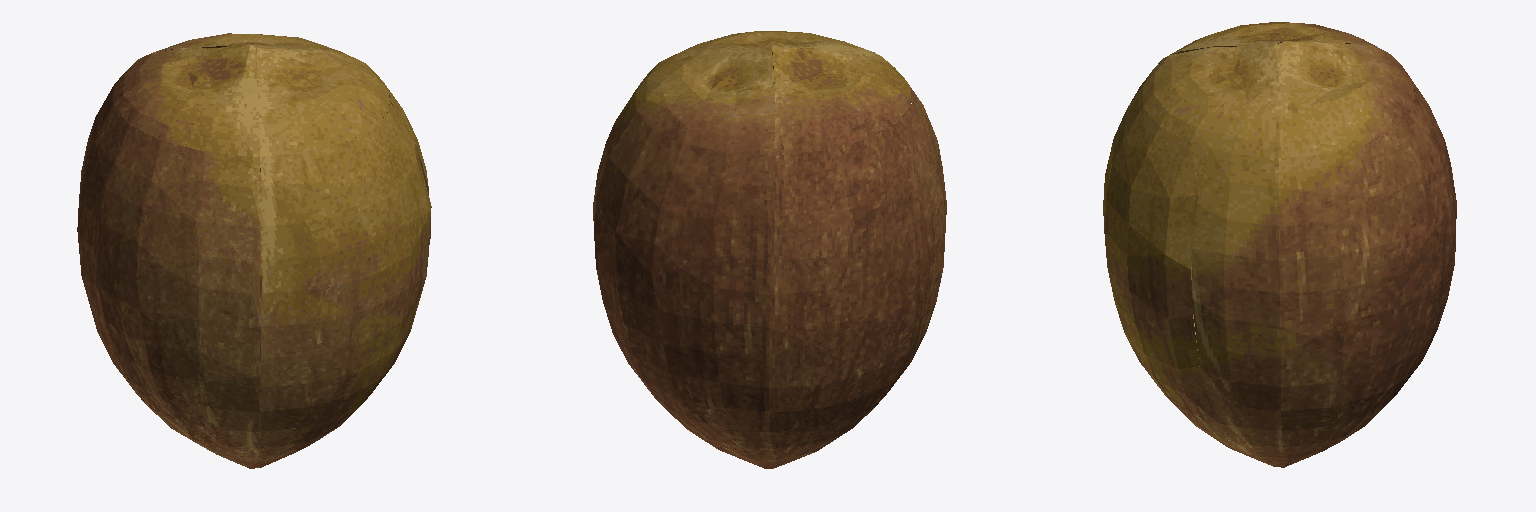
The picture shows the model from 3 angles: view 1: azimuth 30°, elevation 25°; view 2: azimuth 150°, elevation 25°; view 3: azimuth 270°, elevation 25°; orthographic projection.
Visible parts, largest first — view 1: pSphere4_blinn1_0; view 2: pSphere4_blinn1_0; view 3: pSphere4_blinn1_0.
Part boxes in pixels (bbox=[...]): pSphere4_blinn1_0: bbox=[77, 33, 431, 468]; pSphere4_blinn1_0: bbox=[593, 31, 946, 468]; pSphere4_blinn1_0: bbox=[1103, 22, 1456, 467].
Size of the model in its own units: 1.92 by 2.49 by 1.88.
Materials: 1 (1 with a texture image).